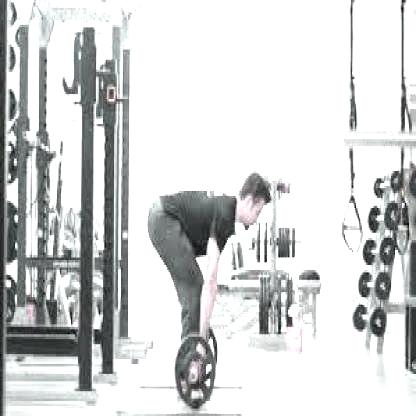Barbell: (189, 362, 199, 382)
